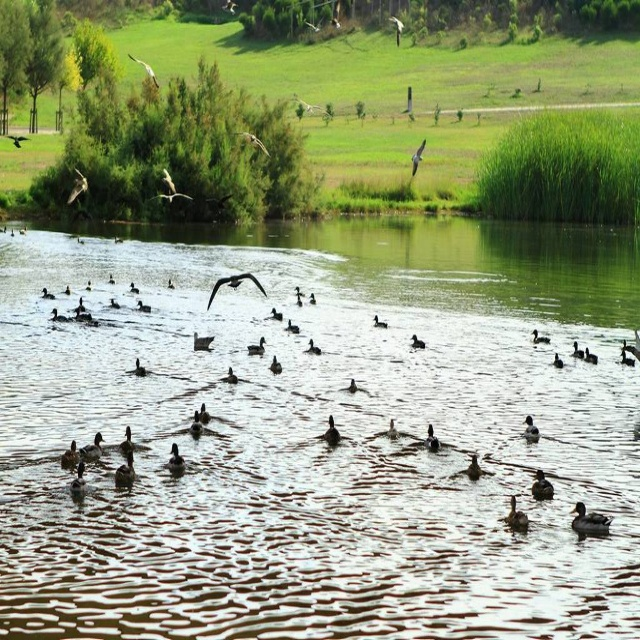Duck: (576, 496, 616, 559), (206, 271, 266, 308), (157, 170, 193, 200), (67, 167, 89, 211), (409, 135, 428, 183), (529, 469, 553, 502), (424, 422, 444, 459), (510, 495, 530, 532), (462, 453, 486, 483), (80, 434, 107, 460), (322, 412, 340, 450), (115, 455, 137, 479), (120, 422, 136, 452), (522, 416, 540, 442), (169, 441, 186, 465), (195, 332, 213, 353), (63, 442, 79, 465), (385, 422, 400, 441)
